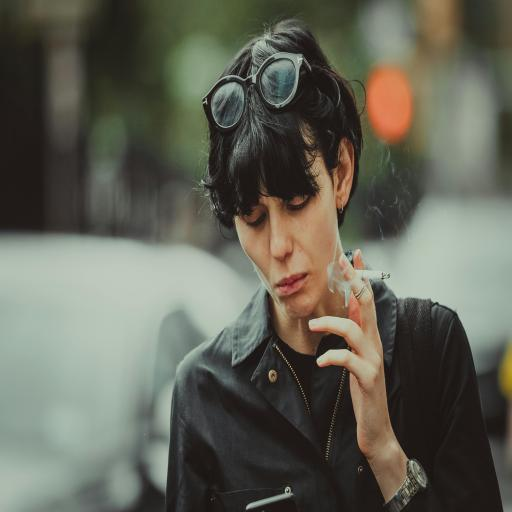terdeteksi pegang rokok: (304, 212, 402, 412)
